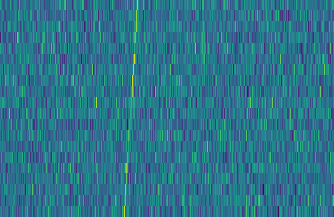signal: (118, 0, 142, 217)
